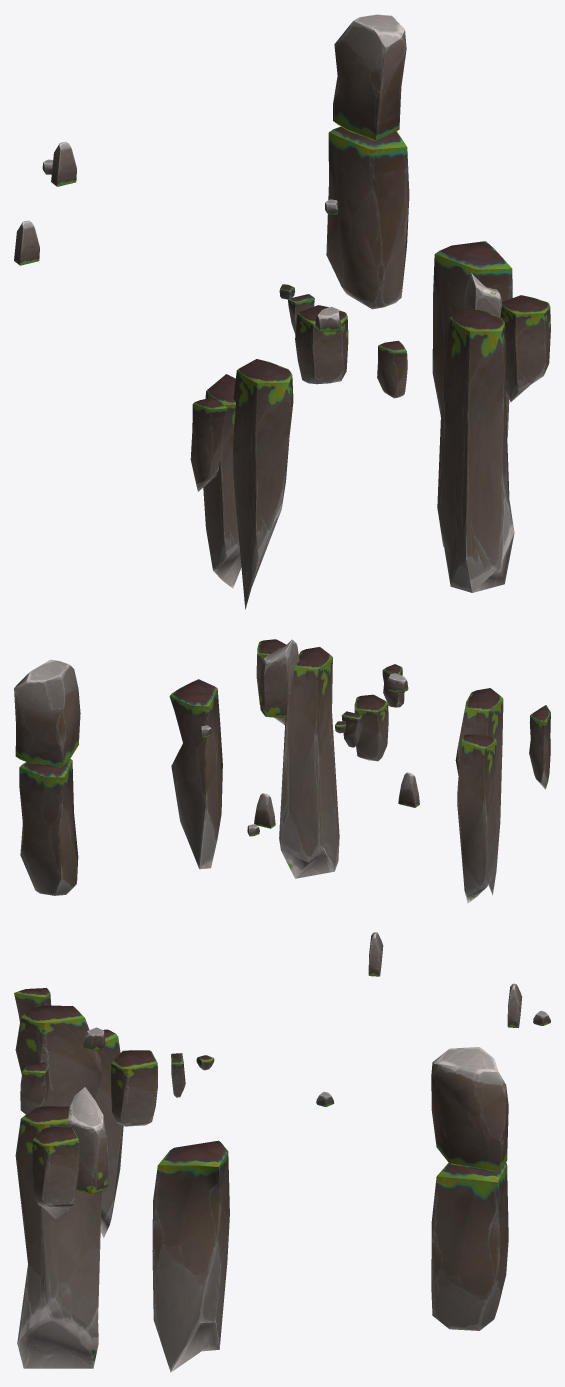
The model's file is Stylized Rocks 1 .fbx.
3 views of the same model, one above another, from view 1: azimuth 30°, elevation 25°; view 2: azimuth 150°, elevation 25°; view 3: azimuth 270°, elevation 25° (orthographic). The views are drawn at different scales.
Visible parts, largest first — view 1: Stone_5_Low.001_stones_no_moss_0.002, Stone_4_Low_stones_moss_0.002, Stone_5_Low.001_stones_no_moss_0, Stone_4_Low_stones_moss_0, Stone_4_Low_stones_moss_0.001, Stone_5_Low.001_stones_no_moss_0.001, Stone_5_Low_stones_moss_0, Stone_5_Low.002_stones_moss_alternate_0, Stone_4_Low.001_stones_no_moss_0, Stone_4_Low.002_stones_moss_alternate_0, Stone_5_Low_stones_moss_0.001, Stone_3_Low.001_stones_no_moss_0 (+1 smaller); view 2: Stone_5_Low.001_stones_no_moss_0.002, Stone_4_Low_stones_moss_0.001, Stone_4_Low_stones_moss_0.002, Stone_4_Low_stones_moss_0, Stone_5_Low.001_stones_no_moss_0.001, Stone_5_Low.001_stones_no_moss_0, Stone_5_Low_stones_moss_0.001, Stone_5_Low.002_stones_moss_alternate_0, Stone_4_Low.001_stones_no_moss_0, Stone_5_Low_stones_moss_0, Stone_3_Low.001_stones_no_moss_0, Stone_3_Low_stones_moss_0 (+3 smaller); view 3: Stone_4_Low_stones_moss_0.001, Stone_5_Low.001_stones_no_moss_0.002, Stone_4_Low_stones_moss_0.002, Stone_4_Low_stones_moss_0, Stone_5_Low.001_stones_no_moss_0, Stone_5_Low_stones_moss_0, Stone_5_Low.002_stones_moss_alternate_0, Stone_5_Low_stones_moss_0.001, Stone_5_Low.001_stones_no_moss_0.001, Stone_4_Low.002_stones_moss_alternate_0, Stone_4_Low.001_stones_no_moss_0, Stone_3_Low.001_stones_no_moss_0 (+2 smaller).
Part boxes in pixels (<box>): Stone_5_Low.001_stones_no_moss_0.002: <box>437,306,514,592</box>; Stone_4_Low_stones_moss_0.002: <box>326,126,409,309</box>; Stone_5_Low.001_stones_no_moss_0: <box>233,359,293,609</box>; Stone_4_Low_stones_moss_0: <box>333,14,406,140</box>; Stone_4_Low_stones_moss_0.001: <box>432,241,512,437</box>; Stone_5_Low.001_stones_no_moss_0.001: <box>203,374,241,588</box>; Stone_5_Low_stones_moss_0: <box>500,295,550,401</box>; Stone_5_Low.002_stones_moss_alternate_0: <box>295,305,348,384</box>; Stone_4_Low.001_stones_no_moss_0: <box>190,397,227,491</box>; Stone_4_Low.002_stones_moss_alternate_0: <box>377,340,407,398</box>; Stone_5_Low_stones_moss_0.001: <box>464,273,501,317</box>; Stone_3_Low.001_stones_no_moss_0: <box>14,220,39,265</box>; Stone_5_Low.001_stones_no_moss_0.002: <box>279,647,339,878</box>; Stone_4_Low_stones_moss_0.001: <box>169,679,222,869</box>; Stone_4_Low_stones_moss_0.002: <box>19,759,78,895</box>; Stone_4_Low_stones_moss_0: <box>14,659,80,767</box>; Stone_5_Low.001_stones_no_moss_0.001: <box>457,734,496,903</box>; Stone_5_Low.001_stones_no_moss_0: <box>455,688,503,895</box>; Stone_5_Low_stones_moss_0.001: <box>259,639,299,718</box>; Stone_5_Low.002_stones_moss_alternate_0: <box>354,694,388,761</box>; Stone_4_Low.001_stones_no_moss_0: <box>529,705,550,789</box>; Stone_5_Low_stones_moss_0: <box>256,639,286,724</box>; Stone_3_Low.001_stones_no_moss_0: <box>398,772,419,807</box>; Stone_3_Low_stones_moss_0: <box>254,793,275,828</box>; Stone_4_Low_stones_moss_0.001: <box>152,1140,229,1372</box>; Stone_5_Low.001_stones_no_moss_0.002: <box>15,1106,101,1368</box>; Stone_4_Low_stones_moss_0.002: <box>431,1163,508,1330</box>; Stone_4_Low_stones_moss_0: <box>431,1047,508,1172</box>; Stone_5_Low.001_stones_no_moss_0: <box>15,1005,101,1106</box>; Stone_5_Low_stones_moss_0: <box>32,1127,79,1219</box>; Stone_5_Low.002_stones_moss_alternate_0: <box>111,1050,157,1126</box>; Stone_5_Low_stones_moss_0.001: <box>68,1087,108,1194</box>; Stone_5_Low.001_stones_no_moss_0.001: <box>95,1029,123,1237</box>; Stone_4_Low.002_stones_moss_alternate_0: <box>20,1062,48,1114</box>; Stone_4_Low.001_stones_no_moss_0: <box>14,988,51,1021</box>; Stone_3_Low.001_stones_no_moss_0: <box>368,932,383,976</box>.
Size of the model in its own units: 998 by 823 by 1092.
3 materials, 3 textured.
